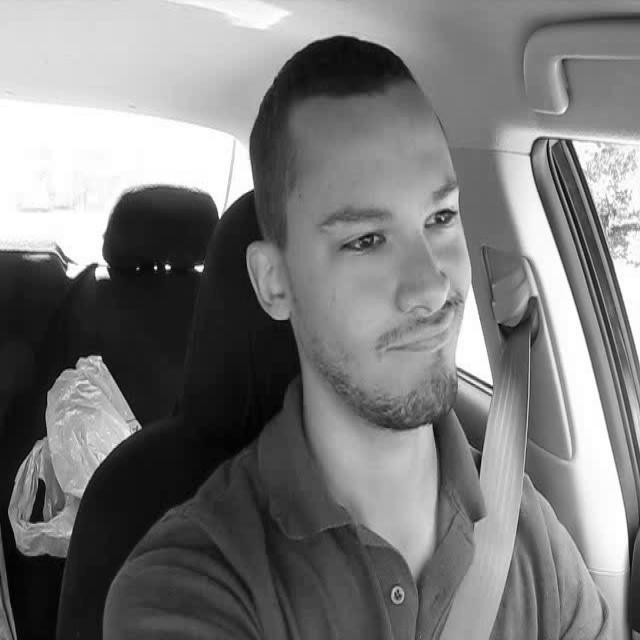no_yawn: (101, 10, 639, 640)
